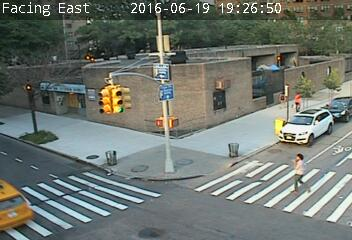neg: (279, 27, 315, 75), (208, 27, 230, 56), (170, 42, 188, 66)
pos: (280, 149, 317, 198), (273, 87, 290, 110), (289, 92, 306, 115)
